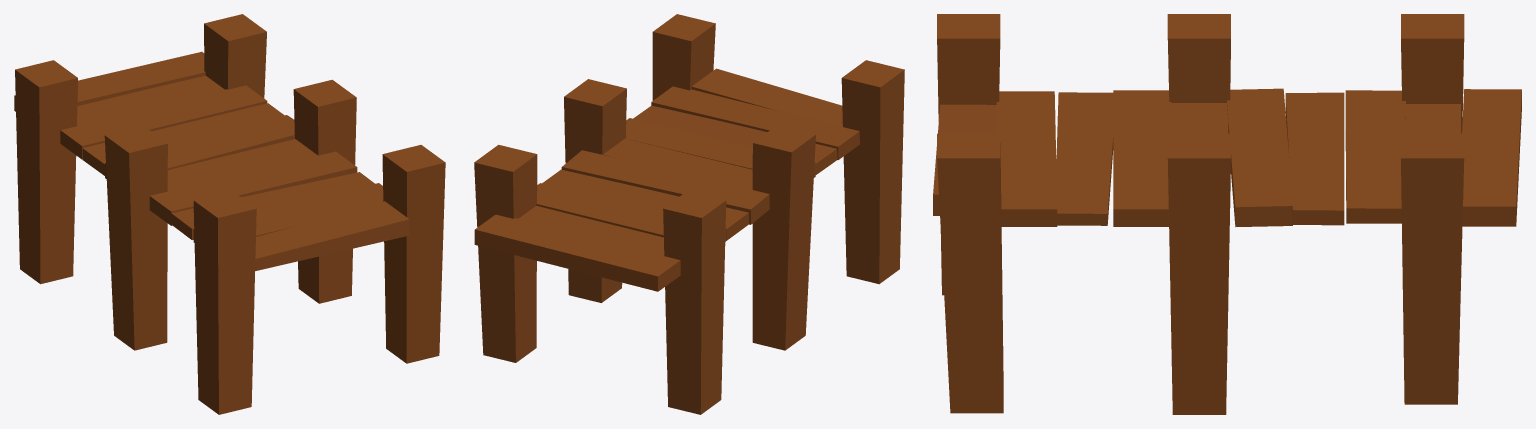
Rendered from Dock.fbx.
The picture shows the model from 3 angles, left to right: view 1: azimuth 30°, elevation 25°; view 2: azimuth 150°, elevation 25°; view 3: azimuth 270°, elevation 25°; orthographic projection. The views are drawn at different scales.
Visible parts, largest first — view 1: Dock; view 2: Dock; view 3: Dock.
Part boxes in pixels (x1=…): Dock: x1=14, y1=14, x2=445, y2=414; Dock: x1=474, y1=14, x2=904, y2=414; Dock: x1=933, y1=14, x2=1521, y2=414.
Bounding box in the file's own units: 1.21 × 1.02 × 2.09.
